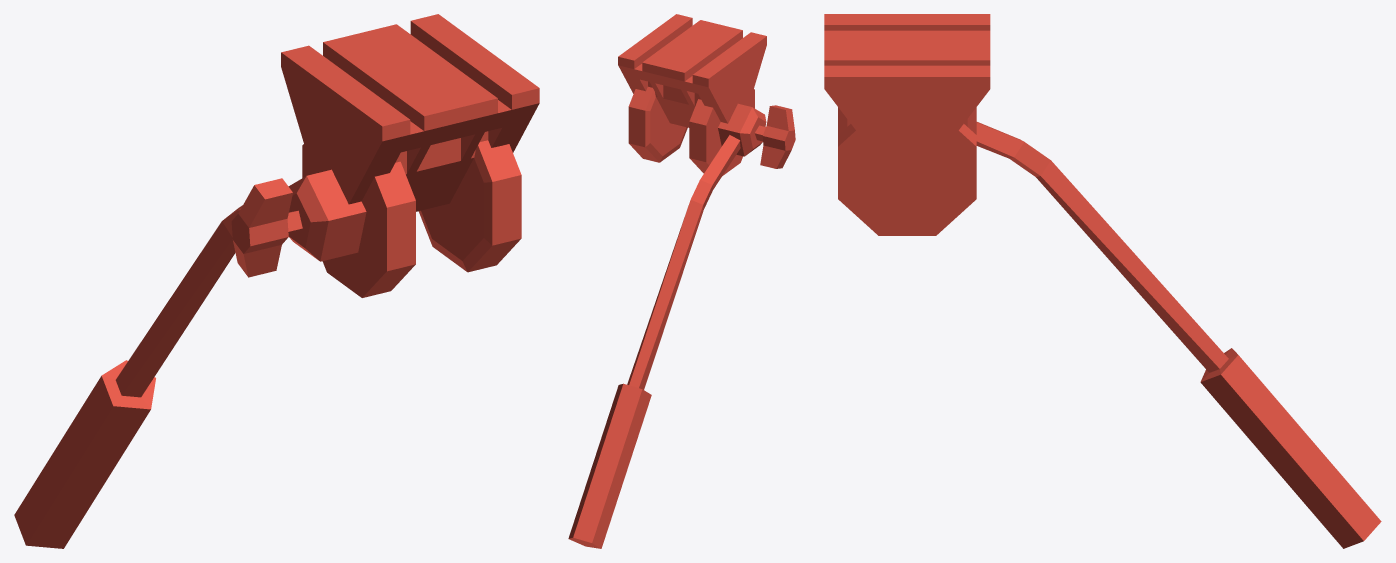
Rendered from SM_Tripod_Camera_Tilt.fbx.
3 renders of one model, left to right at view 1: azimuth 30°, elevation 25°; view 2: azimuth 150°, elevation 25°; view 3: azimuth 270°, elevation 25°, orthographic. The views are drawn at different scales.
Parts seen in each view (by area): view 1: SM_Tripod_Camera_Tilt; view 2: SM_Tripod_Camera_Tilt; view 3: SM_Tripod_Camera_Tilt.
Part boxes in pixels (x1,y1,x2,y2): SM_Tripod_Camera_Tilt: (14, 14, 539, 548); SM_Tripod_Camera_Tilt: (568, 14, 795, 548); SM_Tripod_Camera_Tilt: (824, 14, 1381, 548).
Bounding box in the file's own units: 34.78 × 14.66 × 36.9.
